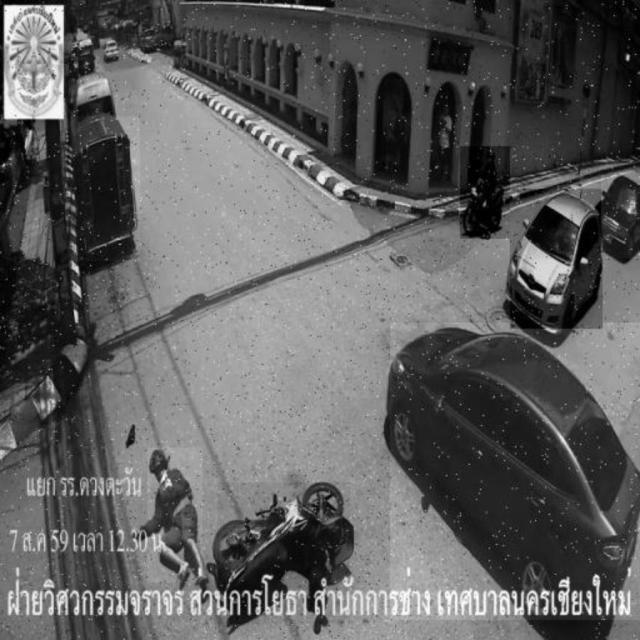person: (147, 448, 203, 582)
vehicle: (390, 323, 640, 620), (217, 483, 351, 624), (510, 190, 602, 330), (71, 116, 141, 260), (460, 146, 510, 238), (601, 172, 640, 258)
